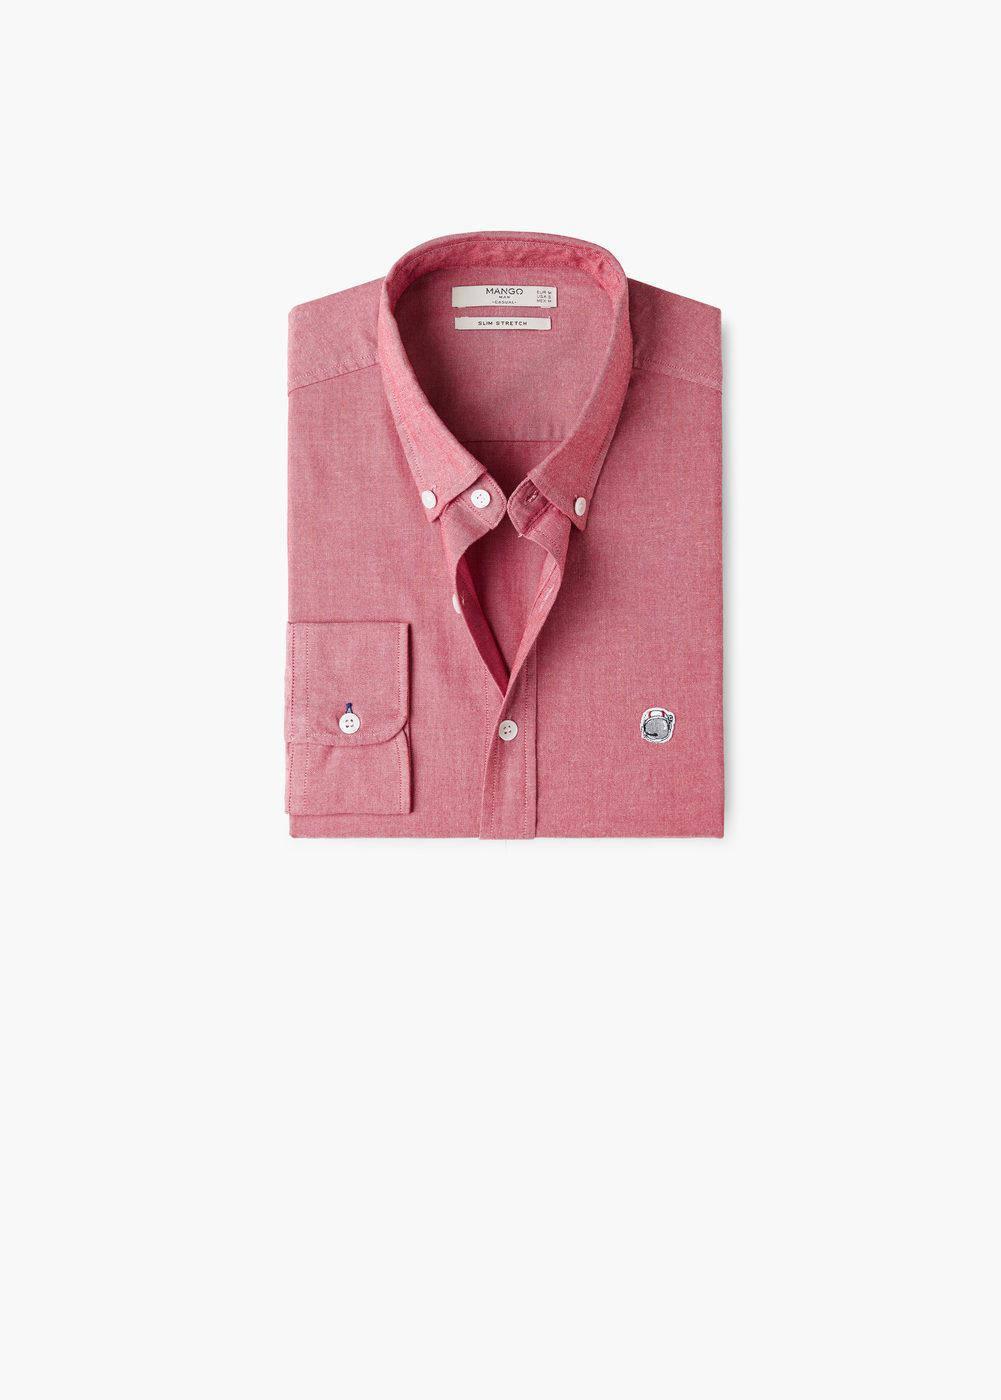teeshirt: (255, 225, 760, 874)
